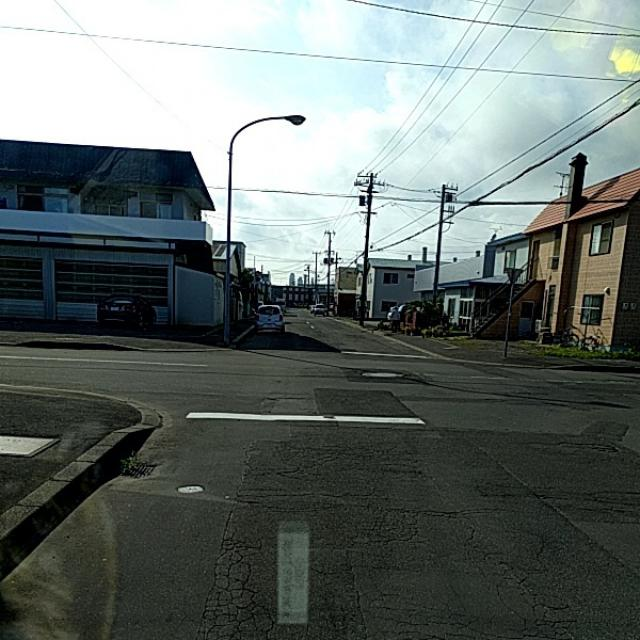pothole: (187, 473, 636, 626)
